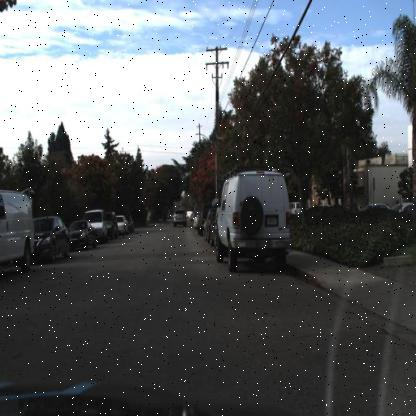car: (212, 166, 291, 284), (0, 189, 34, 275), (32, 212, 74, 266), (68, 216, 99, 251), (173, 204, 189, 230)
